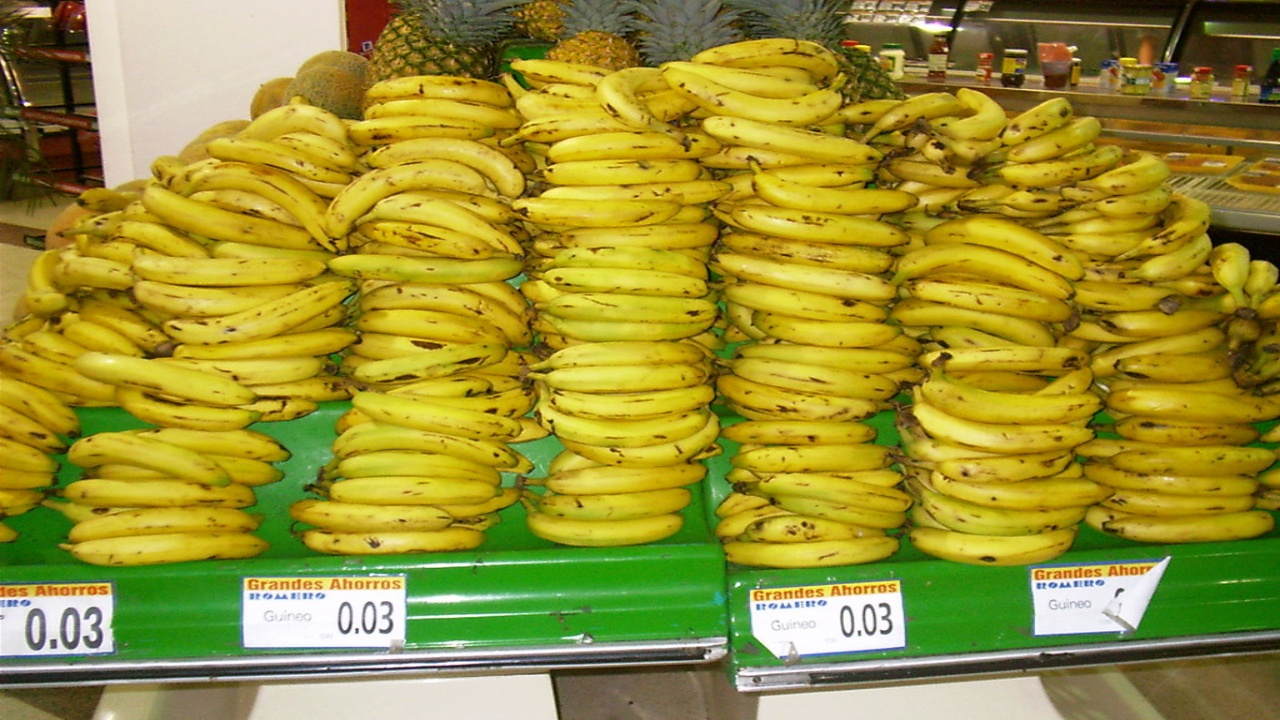banana: (506, 119, 707, 548), (722, 170, 913, 556)
